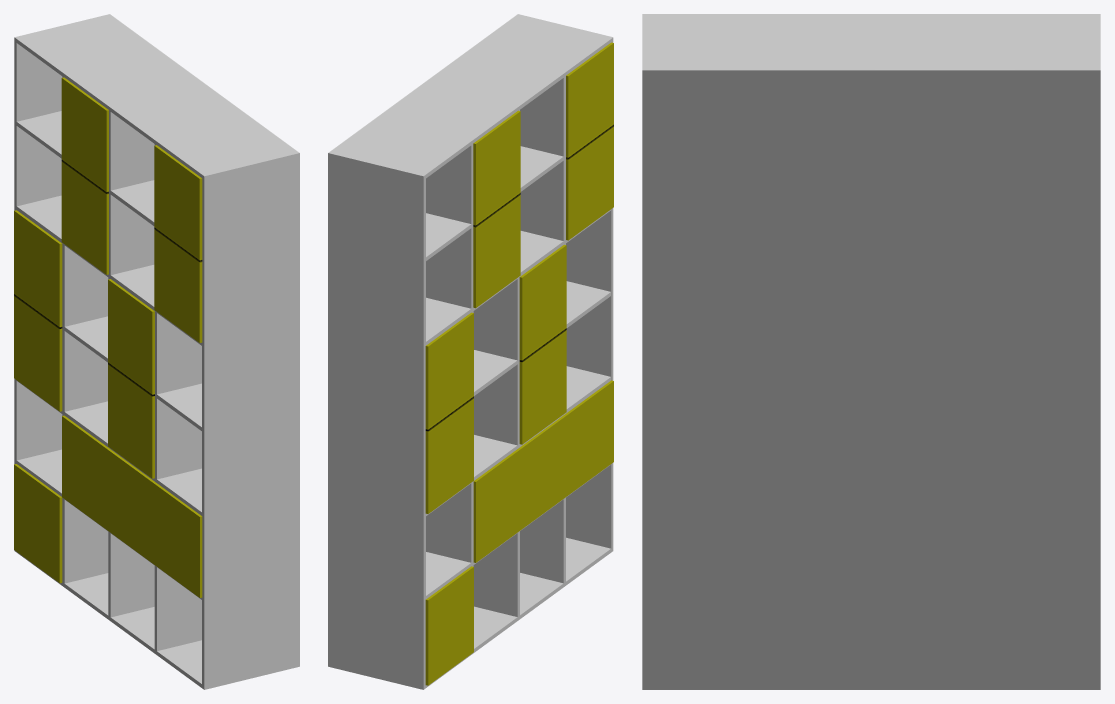
The model's file is cabinet2.FBX.
The picture shows the model from 3 angles, left to right: view 1: azimuth 30°, elevation 25°; view 2: azimuth 150°, elevation 25°; view 3: azimuth 270°, elevation 25°; orthographic projection. The views are drawn at different scales.
Visible parts, largest first — view 1: cabinet2; view 2: cabinet2; view 3: cabinet2.
Boxes of the visible parts, <box> form: cabinet2: <box>14,14,299,689</box>; cabinet2: <box>328,14,613,689</box>; cabinet2: <box>642,14,1100,689</box>.
Size of the model in its own units: 20.06 by 67.33 by 100.
1 material, 1 textured.
